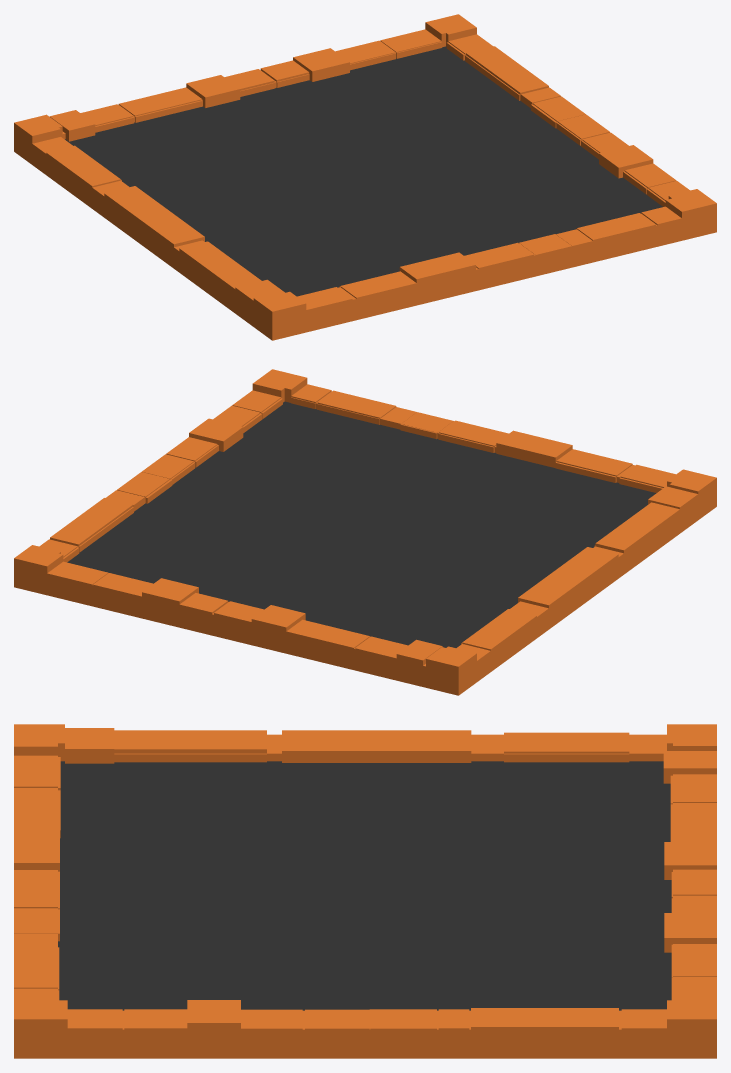
Rendered from orange.fbx.
The picture shows the model from 3 angles, top to bottom: view 1: azimuth 30°, elevation 25°; view 2: azimuth 150°, elevation 25°; view 3: azimuth 270°, elevation 25°; orthographic projection. The views are drawn at different scales.
Visible parts, largest first — view 1: t 2.001, Cube.048, Cube.046, Cube.049, Cube.047; view 2: t 2.001, Cube.049, Cube.046, Cube.048, Cube.047; view 3: t 2.001, Cube.047, Cube.046, Cube.048, Cube.049.
Boxes of the visible parts, box(x1,y1,x2,y2) form: t 2.001: box(65, 46, 662, 296); Cube.048: box(253, 189, 716, 340); Cube.046: box(14, 114, 284, 326); Cube.049: box(50, 29, 441, 141); Cube.047: box(425, 14, 689, 206); t 2.001: box(67, 401, 656, 647); Cube.049: box(47, 561, 442, 686); Cube.046: box(420, 486, 698, 695); Cube.048: box(252, 369, 716, 519); Cube.047: box(14, 390, 282, 595); t 2.001: box(58, 761, 671, 1010); Cube.047: box(67, 997, 716, 1058); Cube.046: box(65, 724, 716, 763); Cube.048: box(14, 724, 67, 1058); Cube.049: box(663, 751, 716, 1000).
Size of the model in its own units: 357 by 22.24 by 359.
